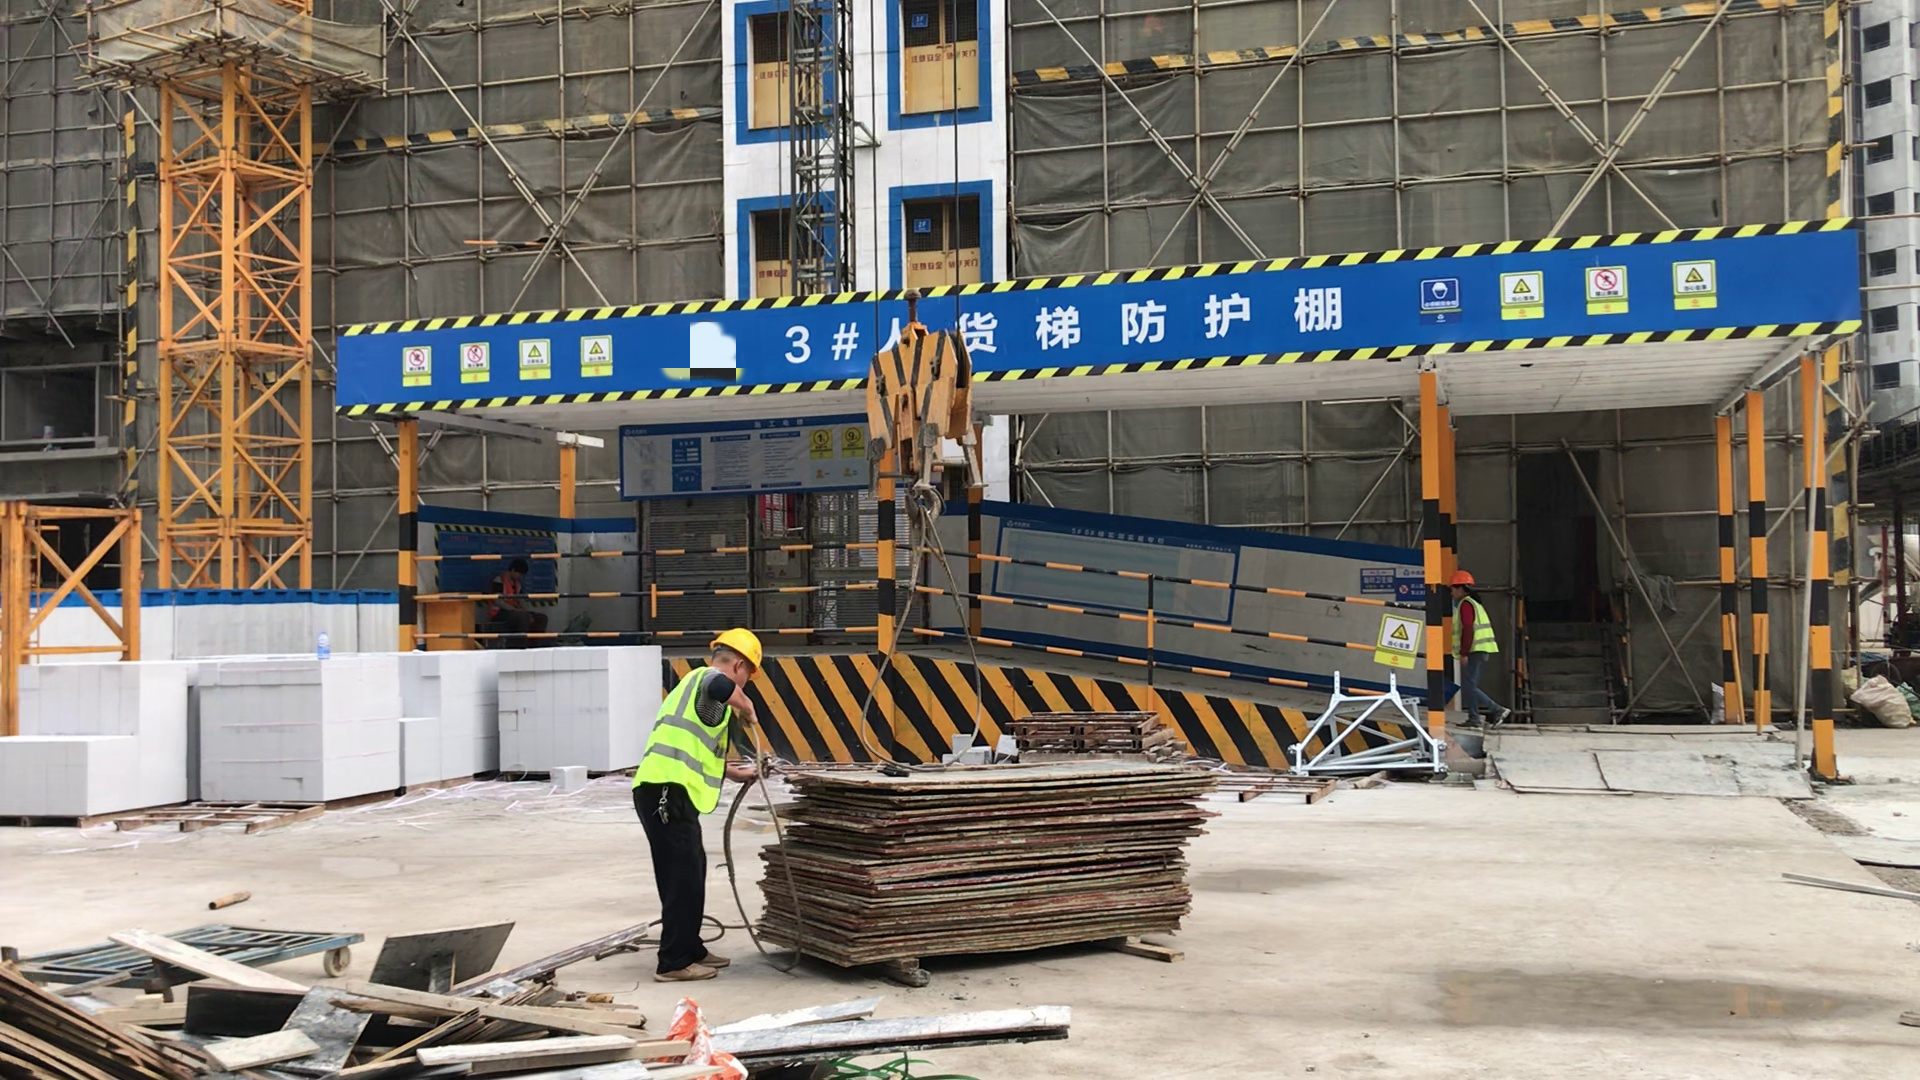board: (757, 751, 1224, 965)
brick: (1, 646, 661, 816)
helmet: (709, 627, 762, 670), (1447, 573, 1473, 589)
hook: (865, 320, 973, 526)
person: (634, 627, 760, 990), (1447, 572, 1518, 735)
slogan: (1409, 260, 1724, 326), (389, 334, 621, 384), (807, 421, 872, 488), (1372, 607, 1422, 678), (1354, 561, 1432, 603)
vest: (636, 665, 729, 812), (1451, 597, 1498, 658)
